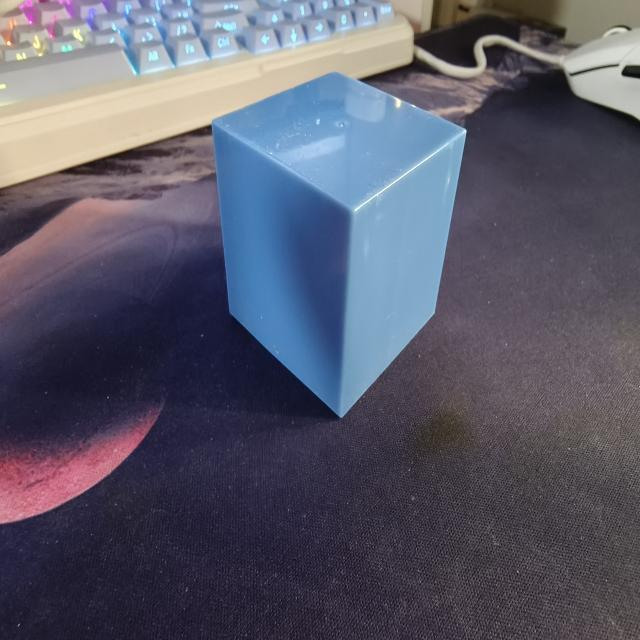blue: (203, 68, 471, 421)
